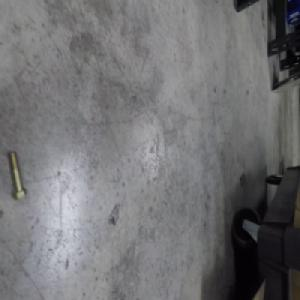Bolt: (7, 147, 27, 200)
